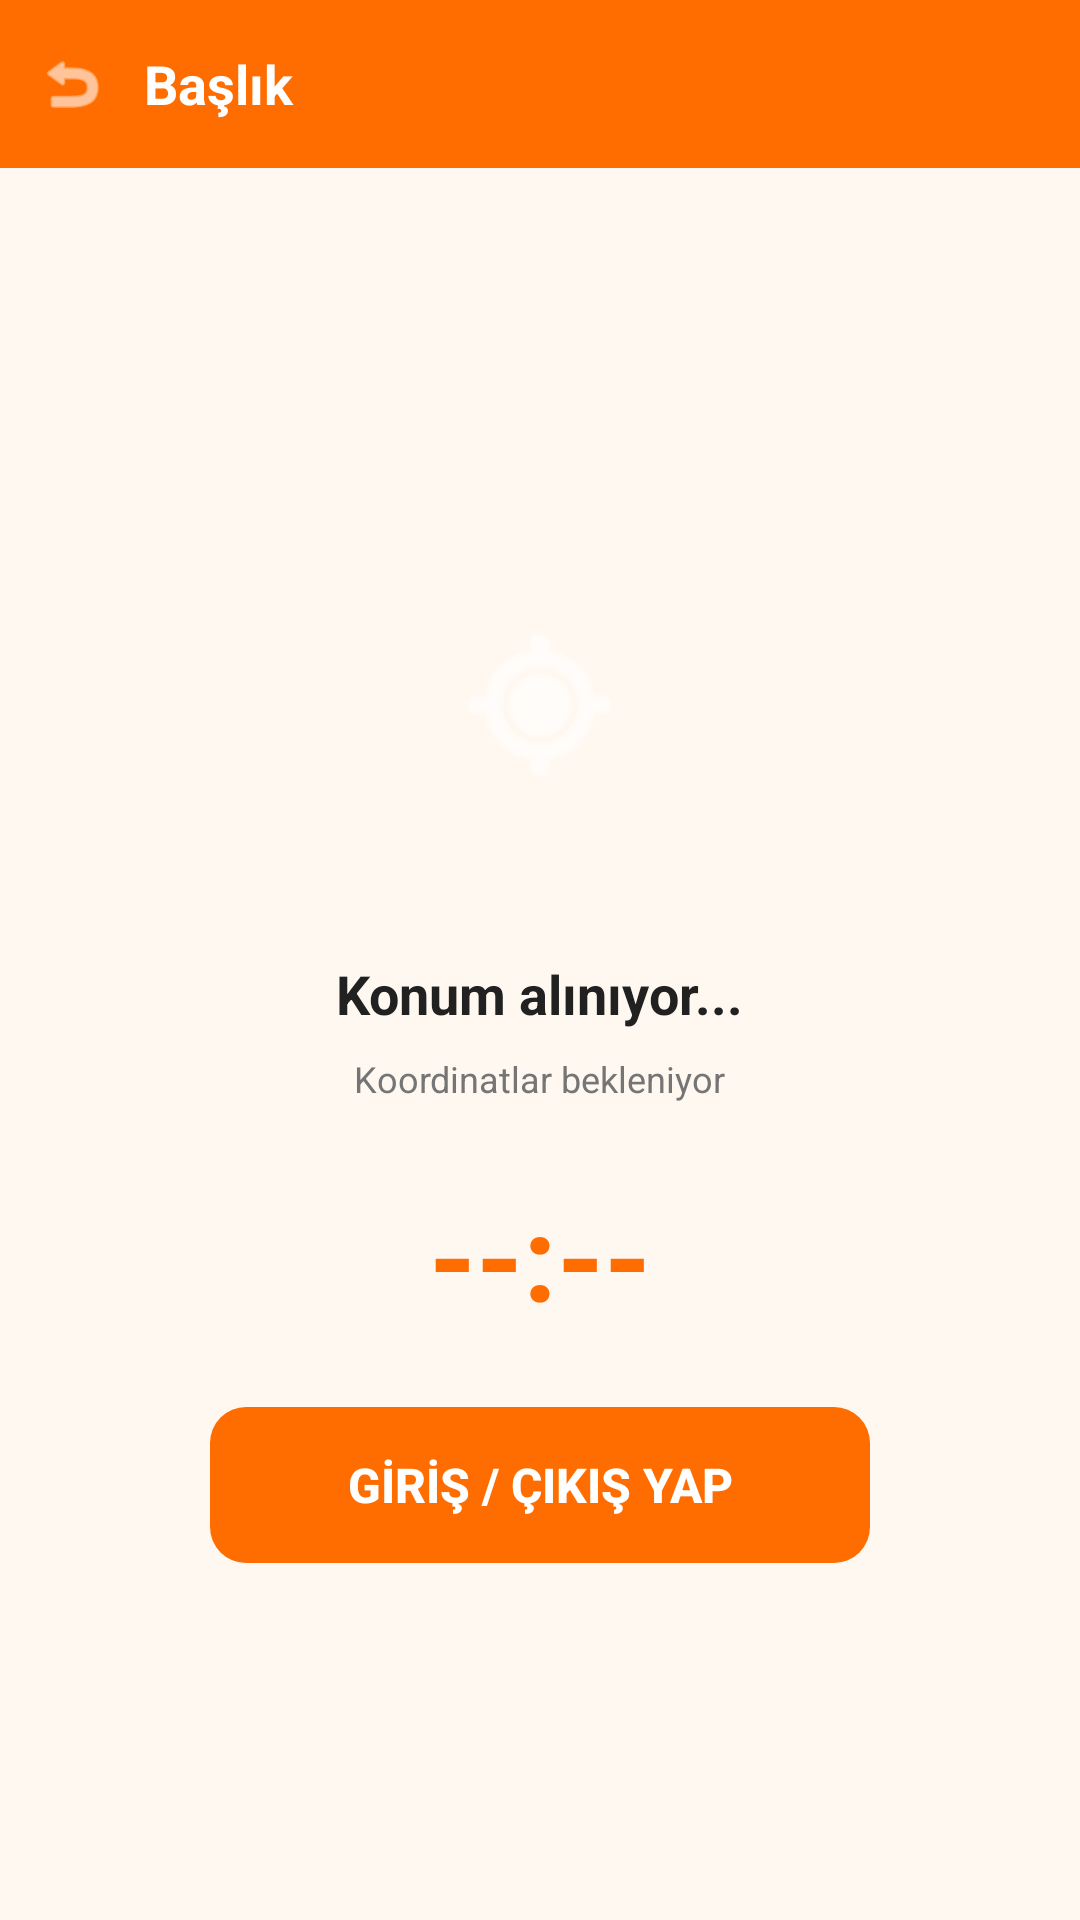

Icon click points for this 1080 x 1920 phone screenshot, format (x=x, y=y):
Geri: (x=73, y=84)
